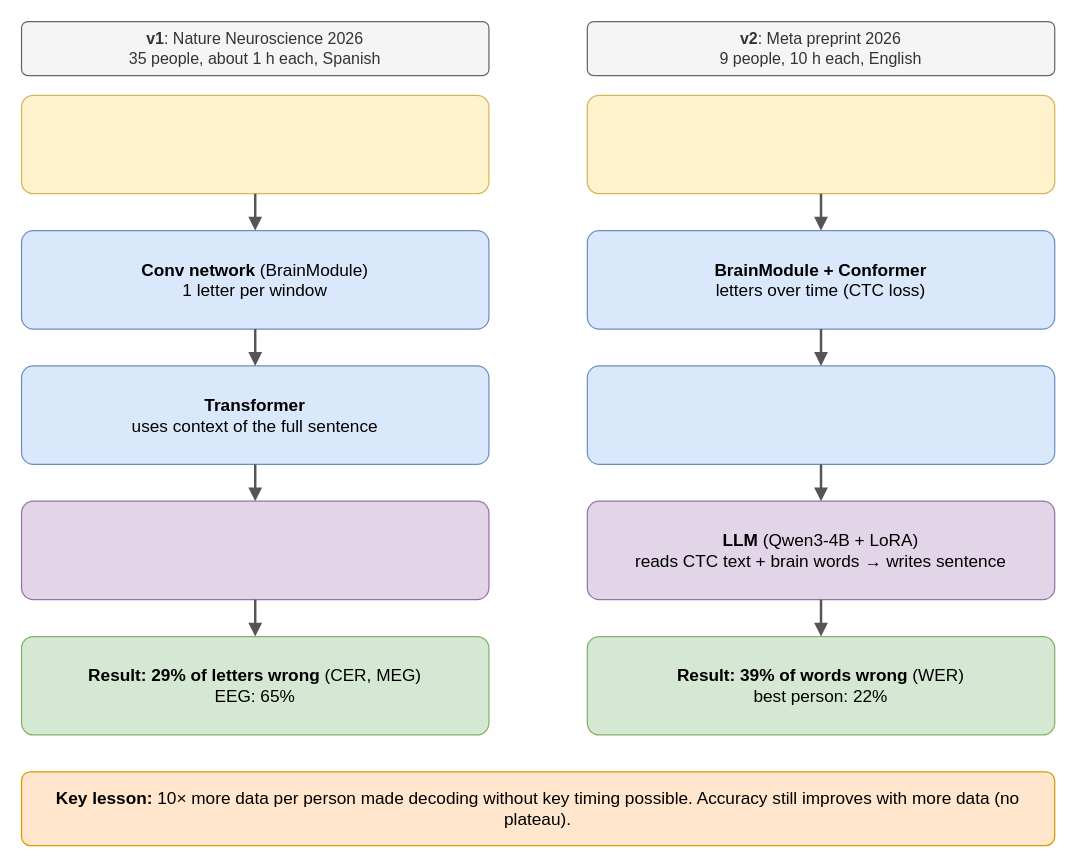
The diagram is 1076 pixels wide and 867 high, and some of its shapes have lost their labels. The shapes that lost their labels are listed below. From the top down, each one's centre as x and y in pixels, then its label:
[254,144]: Input : 0.5 s of signal for EACH key press needs key timing → not real-time
[820,144]: Input : continuous signal for the full sentence no key timing needed
[820,414]: CTC tokenizer cuts at predicted spaces → "brain words"
[254,550]: 9-gram letter model corrects spelling
